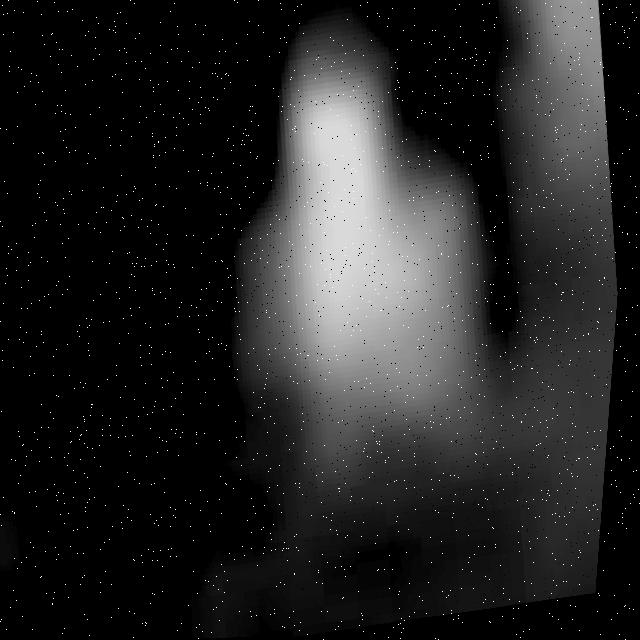person: (192, 15, 531, 535), (494, 1, 639, 291)
